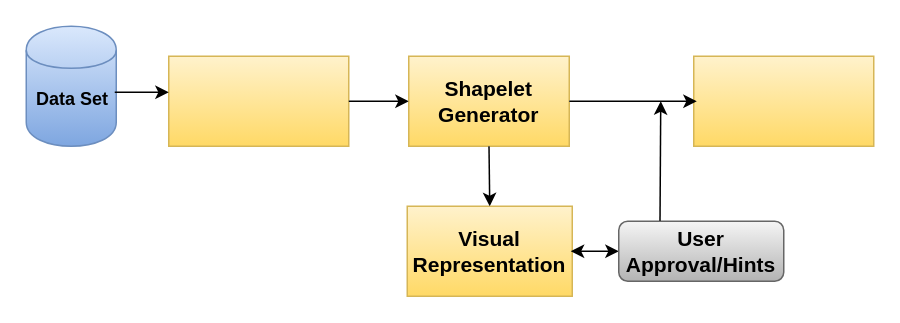
Some shapes in this 900 by 323 pixel diagram are drawn without their labels. The box of each missing label's shape, as (x1, y1, x2, y2) in pixels:
Data Processor: (167, 55, 349, 146)
Query Generator: (692, 55, 874, 146)
